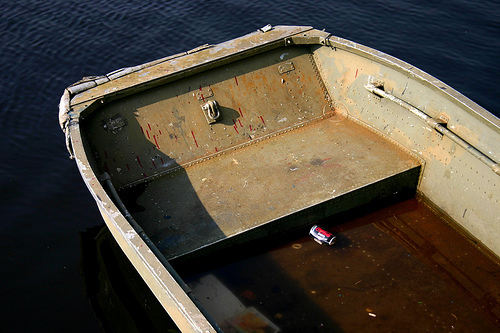litter: (307, 225, 334, 243)
